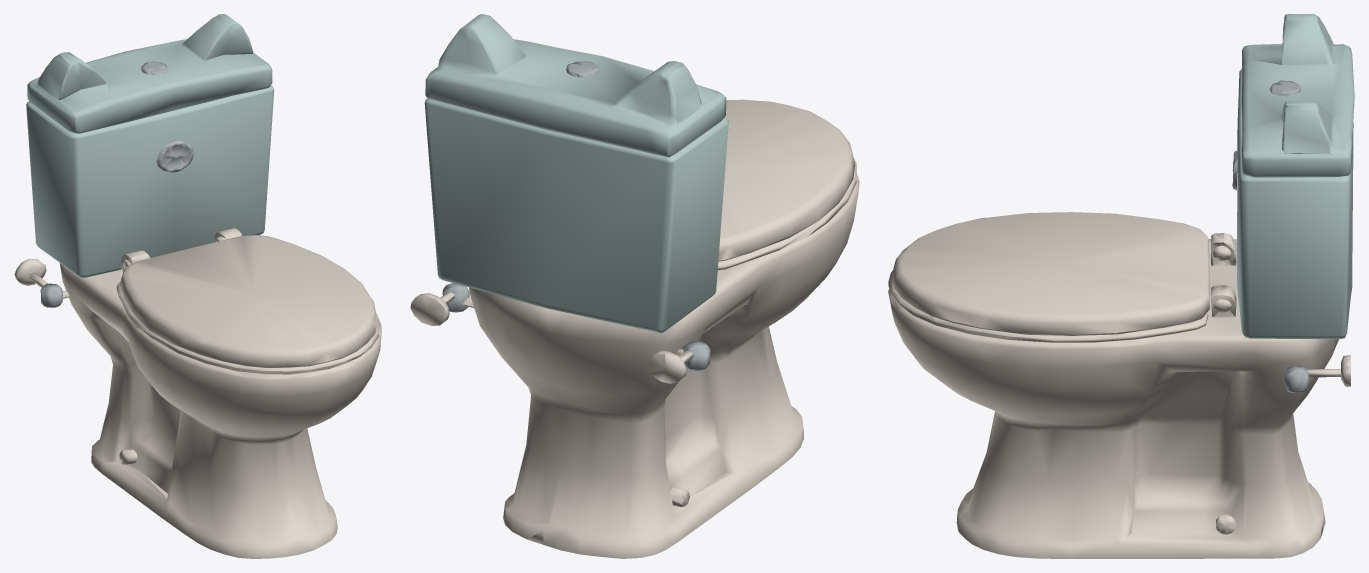
Rendered from bath_toilet.glb.
3 renders of one model, left to right at view 1: azimuth 30°, elevation 25°; view 2: azimuth 150°, elevation 25°; view 3: azimuth 270°, elevation 25°, orthographic. The views are drawn at different scales.
Size of the model in its own units: 0.95 by 1.65 by 1.51.
